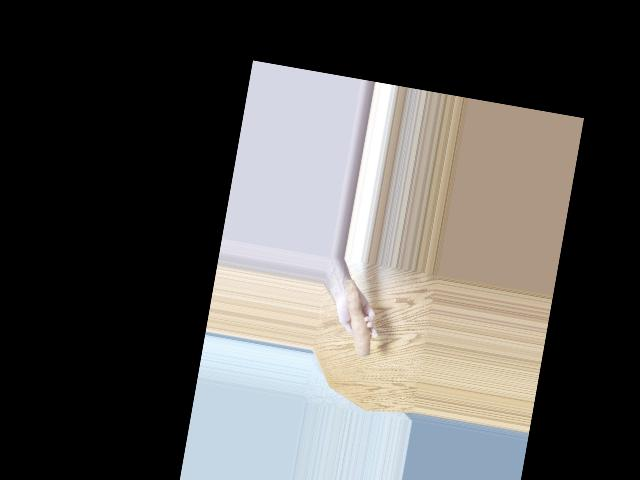sweet_potato: (332, 276, 383, 358)
